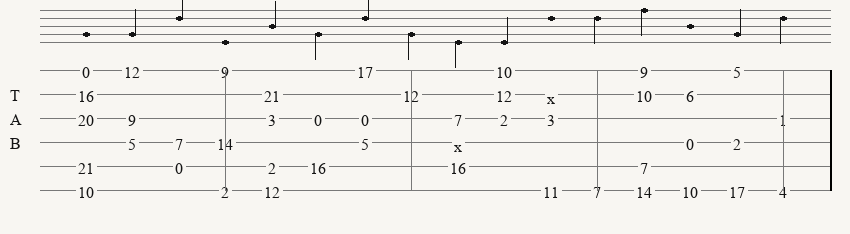0: (82, 63, 94, 78), (175, 159, 187, 174), (314, 111, 326, 126), (361, 111, 373, 126), (686, 135, 698, 150)
1: (779, 111, 791, 126)
10: (78, 183, 98, 198), (496, 63, 516, 78), (636, 87, 656, 102), (682, 183, 702, 198)
11: (543, 183, 563, 198)
12: (124, 63, 144, 78), (264, 183, 284, 198), (403, 87, 423, 102), (496, 87, 516, 102)
14: (217, 135, 237, 150), (636, 183, 656, 198)
16: (78, 87, 98, 102), (310, 159, 330, 174), (450, 159, 470, 174)
17: (357, 63, 377, 78), (729, 183, 749, 198)
2: (221, 183, 233, 198), (268, 159, 280, 174), (500, 111, 512, 126), (733, 135, 745, 150)
20: (78, 111, 98, 126)
21: (78, 159, 98, 174), (264, 87, 284, 102)
3: (268, 111, 280, 126), (547, 111, 559, 126)
4: (779, 183, 791, 198)
5: (128, 135, 140, 150), (361, 135, 373, 150), (733, 63, 745, 78)
6: (686, 87, 698, 102)
7: (175, 135, 187, 150), (454, 111, 466, 126), (593, 183, 605, 198), (640, 159, 652, 174)
9: (128, 111, 140, 126), (221, 63, 233, 78), (640, 63, 652, 78)
x: (454, 137, 466, 148), (547, 89, 559, 100)
